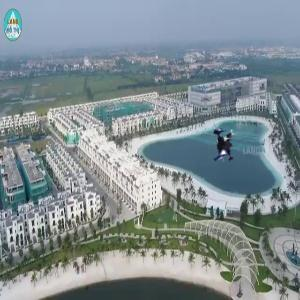drone: (186, 118, 248, 180)
